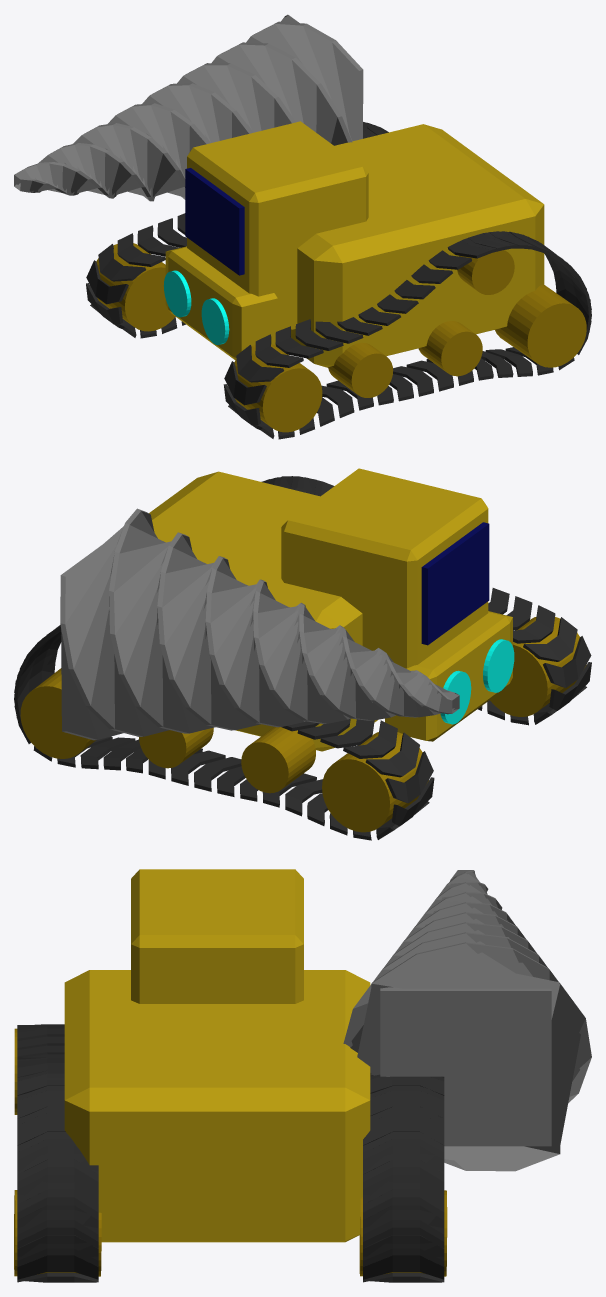
The model's file is Bour.fbx.
3 renders of one model, top to bottom at view 1: azimuth 30°, elevation 25°; view 2: azimuth 150°, elevation 25°; view 3: azimuth 270°, elevation 25°, orthographic. The views are drawn at different scales.
Parts seen in each view (by area): view 1: Cube, спираль, Cube.001, Cube.004, Cylinder, Cube.003, Cube.005, Cube.006, Cylinder.002, Cylinder.005, Cylinder.003, Cylinder.004 (+2 smaller); view 2: спираль, Cube.001, Cube.005, Cube, Cube.004, Cube.006, Cube.003, Cylinder.001, Cylinder.005, Cylinder.006, Cylinder.002, Circle.001 (+1 smaller); view 3: Cube, Cube.001, Cube.002, спираль, Cube.004, Cube.005, Cylinder, Cylinder.001.
Boxes of the visible parts, x1,y1,x2,y2 form: Cube: (291, 124, 544, 367); спираль: (14, 14, 363, 201); Cube.001: (187, 121, 368, 333); Cube.004: (223, 231, 591, 439); Cylinder: (418, 284, 586, 376); Cube.003: (165, 246, 277, 360); Cube.005: (86, 122, 388, 338); Cube.006: (185, 168, 244, 275); Cylinder.002: (234, 344, 322, 432); Cylinder.005: (96, 243, 175, 331); Cylinder.003: (328, 342, 393, 397); Cylinder.004: (457, 250, 514, 294); спираль: (60, 508, 459, 740); Cube.001: (281, 468, 488, 668); Cube.005: (14, 625, 434, 840); Cube: (149, 471, 377, 751); Cube.004: (261, 476, 591, 725); Cube.006: (421, 522, 489, 645); Cube.003: (385, 611, 512, 741); Cylinder.001: (20, 668, 213, 768); Cylinder.005: (322, 732, 428, 832); Cylinder.006: (241, 727, 315, 793); Cylinder.002: (490, 617, 586, 716); Circle.001: (483, 639, 514, 692); Cube: (64, 970, 370, 1242); Cube.001: (131, 869, 303, 1003); Cube.002: (380, 987, 551, 1146); спираль: (343, 870, 591, 1171); Cube.004: (17, 1024, 98, 1282); Cube.005: (363, 1073, 444, 1282); Cylinder: (14, 1190, 101, 1276); Cylinder.001: (359, 1190, 447, 1276).
Bounding box in the file's own units: 663 × 377 × 669.
